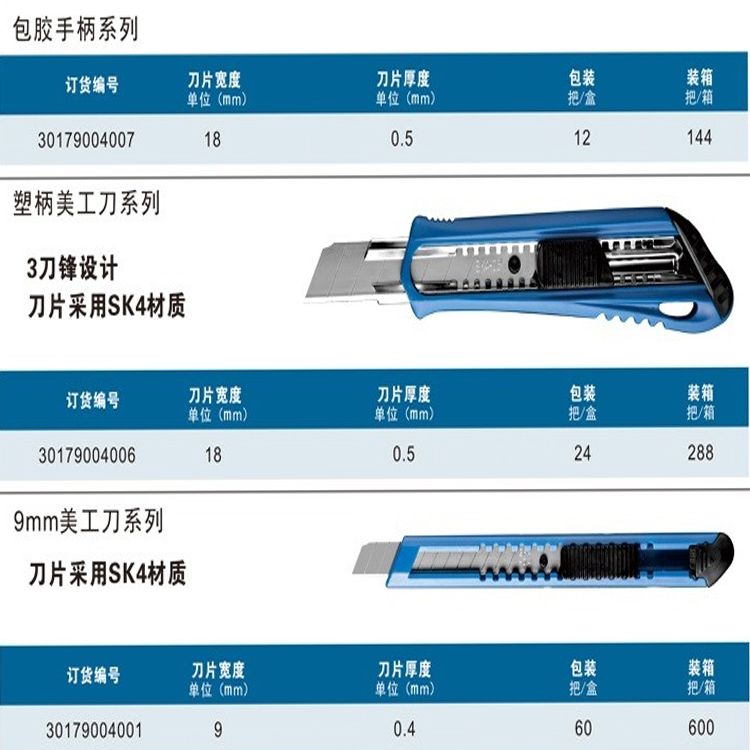cutter: (305, 206, 735, 336), (345, 531, 735, 589)
